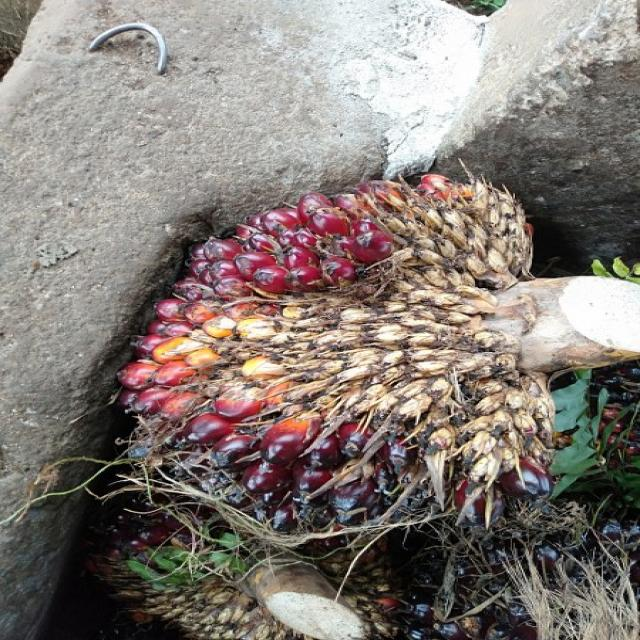fraksi 1: (135, 182, 567, 518)
